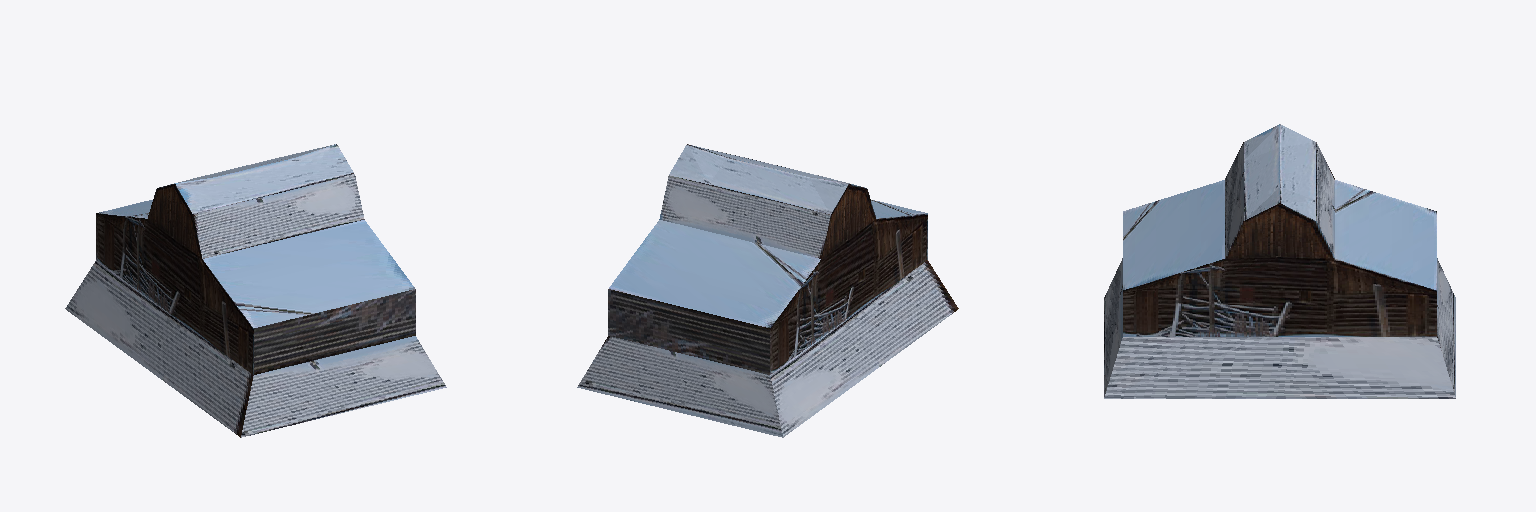
3 views of the same model, side by side, from view 1: azimuth 30°, elevation 25°; view 2: azimuth 150°, elevation 25°; view 3: azimuth 270°, elevation 25° (orthographic).
Visible parts, largest first — view 1: Cube_Cube.001; view 2: Cube_Cube.001; view 3: Cube_Cube.001.
Part boxes in pixels (x1,y1,x2,y2): Cube_Cube.001: (65, 144, 446, 437); Cube_Cube.001: (577, 144, 958, 437); Cube_Cube.001: (1104, 124, 1455, 398).
Bounding box in the file's own units: 32.39 × 27.74 × 47.89.
Materials: 1 (1 with a texture image).